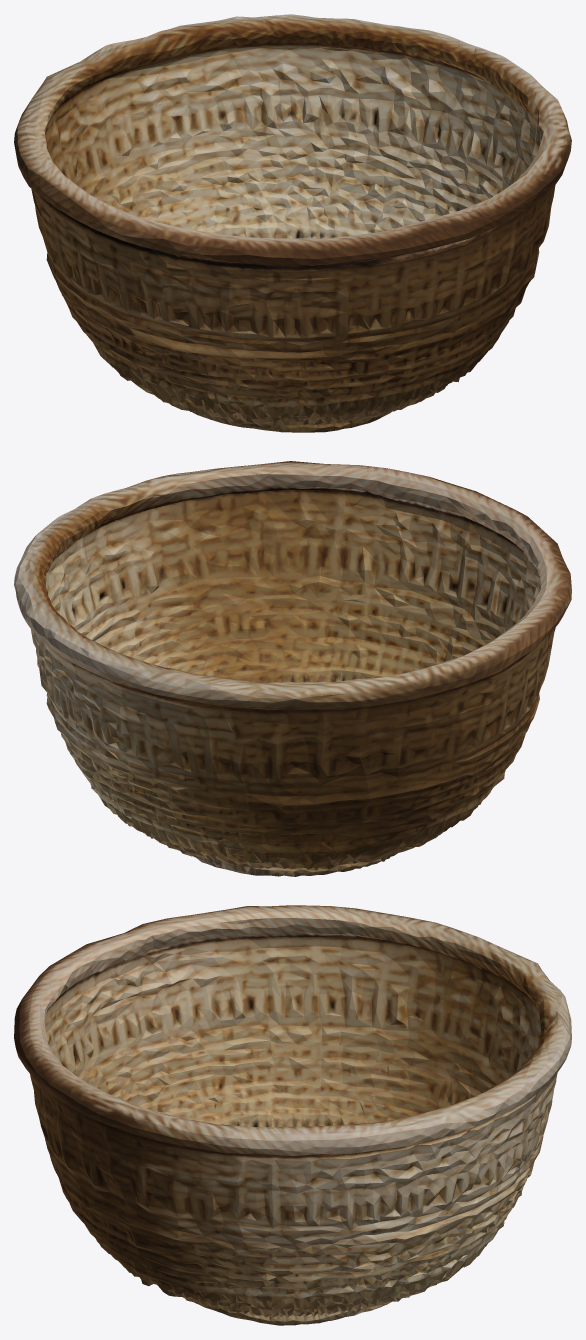
File: palm-fiber-hanging-basket-vintage.jpeg.glb
3 views of the same model, one above another, from view 1: azimuth 30°, elevation 25°; view 2: azimuth 150°, elevation 25°; view 3: azimuth 270°, elevation 25° (orthographic).
Visible parts, largest first — view 1: world; view 2: world; view 3: world.
Boxes of the visible parts, <box> form: world: <box>14,14,571,432</box>; world: <box>14,461,571,876</box>; world: <box>14,905,571,1325</box>.
Size of the model in its own units: 0.9982 by 0.5068 by 0.9977.
1 material, 1 textured.
